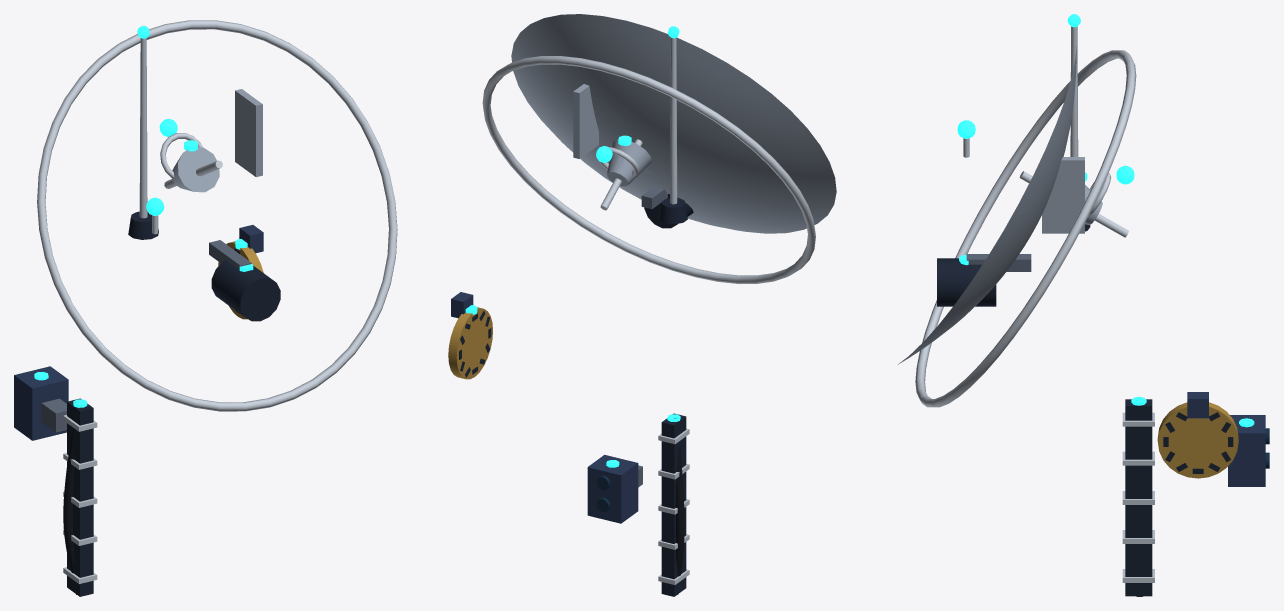
The model's file is tower_skywatch_range_s9.glb.
3 renders of one model, left to right at view 1: azimuth 30°, elevation 25°; view 2: azimuth 150°, elevation 25°; view 3: azimuth 270°, elevation 25°, orthographic. The views are drawn at different scales.
Parts seen in each view (by area): view 1: skywatch_wide_rim, skywatch_cable_ladder, skywatch_dish_counterweight, skywatch_sensor_cluster, skywatch_iff_blade, skywatch_feed_horn, skywatch_whip, skywatch_ladder_loom, skywatch_sensor_mount, skywatch_dish_cw_arm, skywatch_whip_base; view 2: skywatch_wide_dish, skywatch_wide_rim, skywatch_cable_ladder, skywatch_sensor_cluster, skywatch_encoder_disc, skywatch_iff_blade, skywatch_feed_horn, skywatch_whip, skywatch_ladder_loom, skywatch_whip_base; view 3: skywatch_wide_rim, skywatch_wide_dish, skywatch_cable_ladder, skywatch_encoder_disc, skywatch_iff_blade, skywatch_sensor_cluster, skywatch_dish_counterweight, skywatch_whip, skywatch_encoder_head, skywatch_dish_cw_arm.
Boxes of the visible parts, x1,y1,x2,y2 form: skywatch_wide_rim: (37, 20, 397, 411); skywatch_cable_ladder: (67, 398, 93, 596); skywatch_dish_counterweight: (211, 260, 280, 321); skywatch_sensor_cluster: (14, 366, 68, 440); skywatch_iff_blade: (235, 89, 262, 177); skywatch_feed_horn: (172, 147, 219, 192); skywatch_whip: (139, 38, 147, 218); skywatch_ladder_loom: (63, 402, 76, 594); skywatch_sensor_mount: (41, 398, 66, 432); skywatch_dish_cw_arm: (209, 240, 251, 269); skywatch_whip_base: (128, 211, 158, 239); skywatch_wide_dish: (511, 14, 836, 233); skywatch_wide_rim: (482, 56, 815, 283); skywatch_cable_ladder: (661, 413, 686, 596); skywatch_sensor_cluster: (587, 454, 638, 523); skywatch_encoder_disc: (448, 307, 492, 379); skywatch_iff_blade: (573, 84, 598, 158); skywatch_feed_horn: (607, 139, 651, 186); skywatch_whip: (670, 37, 677, 204); skywatch_ladder_loom: (674, 418, 684, 594); skywatch_whip_base: (659, 198, 687, 224); skywatch_wide_rim: (915, 50, 1136, 407); skywatch_wide_dish: (898, 46, 1076, 364); skywatch_cable_ladder: (1125, 399, 1152, 596); skywatch_encoder_disc: (1157, 402, 1238, 478); skywatch_iff_blade: (1042, 157, 1084, 233); skywatch_sensor_cluster: (1228, 415, 1265, 486); skywatch_dish_counterweight: (937, 258, 996, 306); skywatch_whip: (1070, 26, 1078, 156); skywatch_encoder_head: (1187, 392, 1208, 418); skywatch_dish_cw_arm: (966, 254, 1031, 271).
Bounding box in the file's own units: 1.52 × 2.45 × 1.5.
